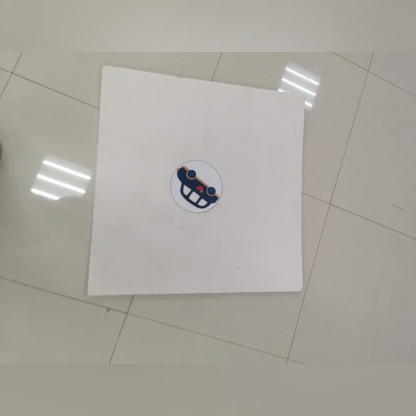car: (164, 159, 219, 204)
